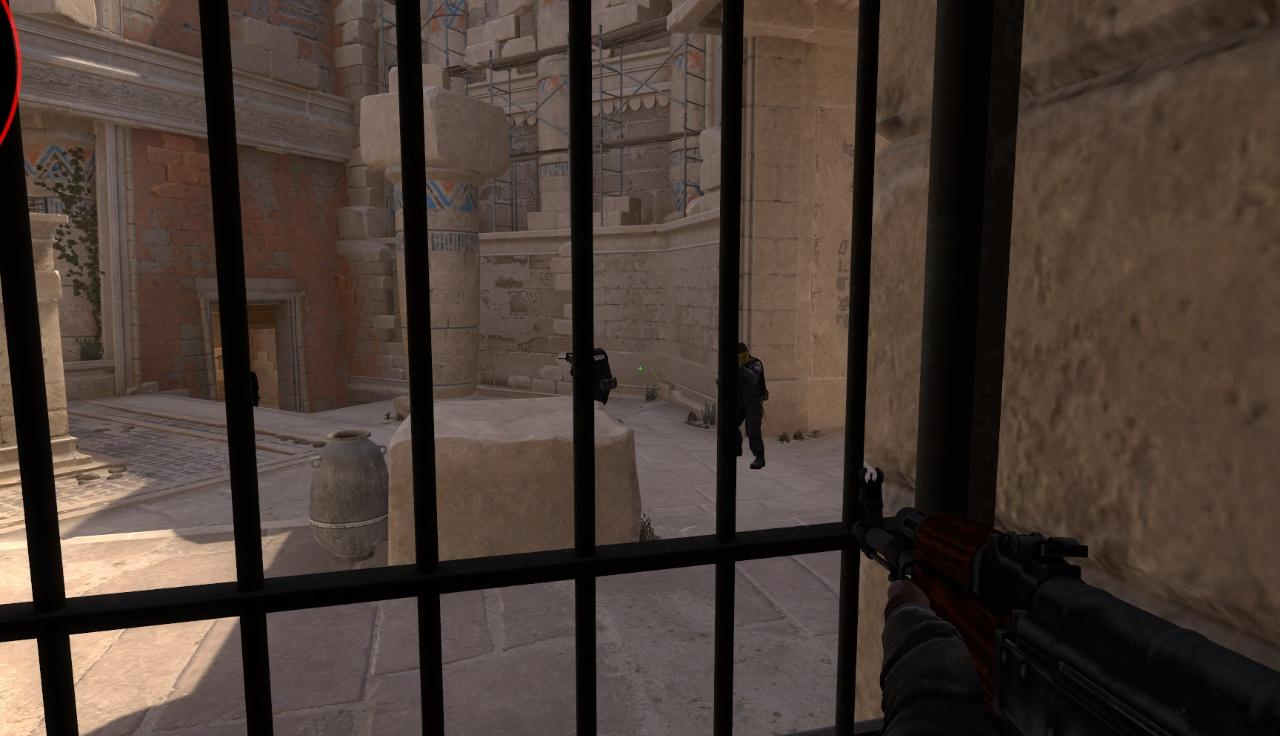ct: (732, 342, 765, 471), (586, 341, 612, 406)
cthead: (734, 343, 750, 364)
rifle: (856, 470, 1280, 736)
